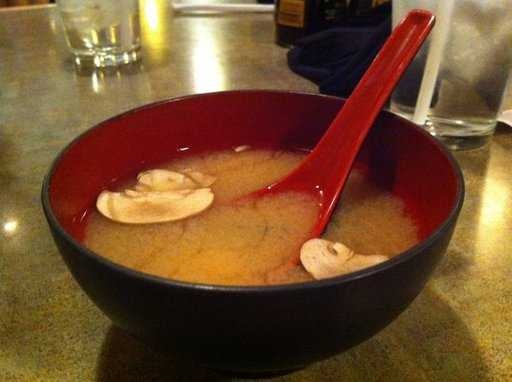soup: (83, 104, 406, 285)
